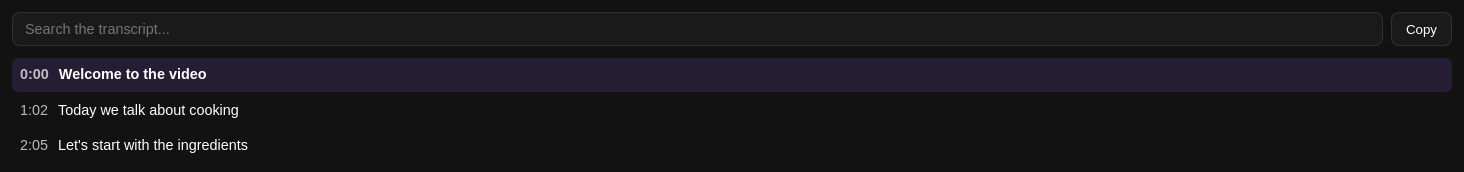
Test: TranscriptPanel › copies the text without timestamps
Click the button with class "transcript-copy".
click(1421, 29)  # box [1391, 12, 1452, 46]
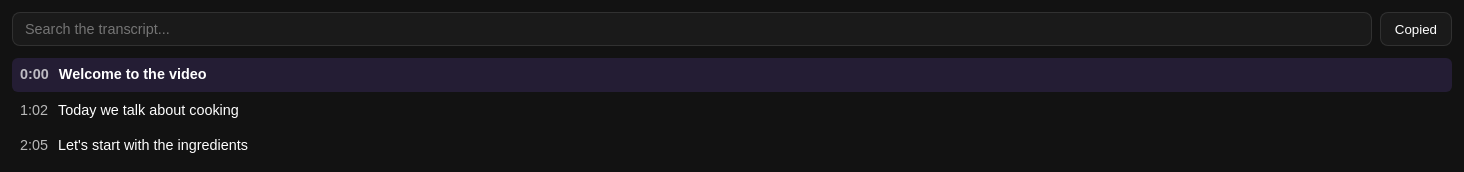
Expected: the button with class "transcript-copy" reads "Copied", [1380, 12, 1452, 46]
